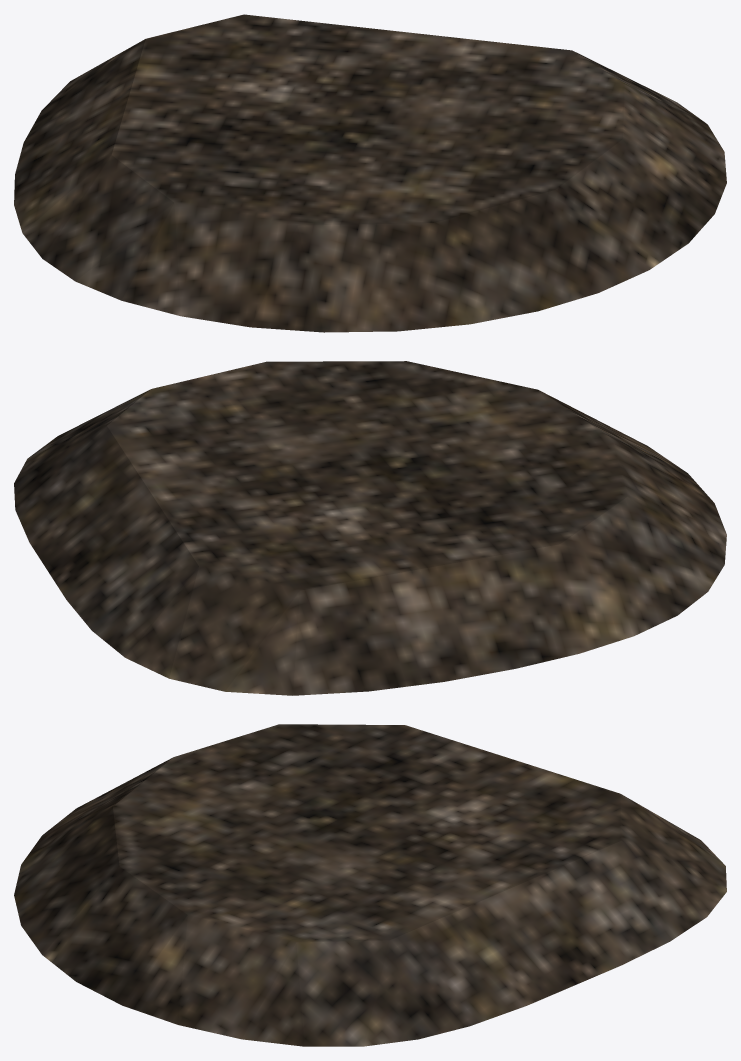
File: SM_TI_Slab_5.fbx
The picture shows the model from 3 angles, top to bottom: view 1: azimuth 30°, elevation 25°; view 2: azimuth 150°, elevation 25°; view 3: azimuth 270°, elevation 25°; orthographic projection. The views are drawn at different scales.
Parts seen in each view (by area): view 1: SM_TI_Slab_5; view 2: SM_TI_Slab_5; view 3: SM_TI_Slab_5.
Part boxes in pixels (left/top/right/bottom): SM_TI_Slab_5: left=14, top=14, right=726, bottom=332; SM_TI_Slab_5: left=14, top=361, right=726, bottom=695; SM_TI_Slab_5: left=14, top=724, right=726, bottom=1046.
Size of the model in its own units: 1.68 by 1.67 by 0.1627.
